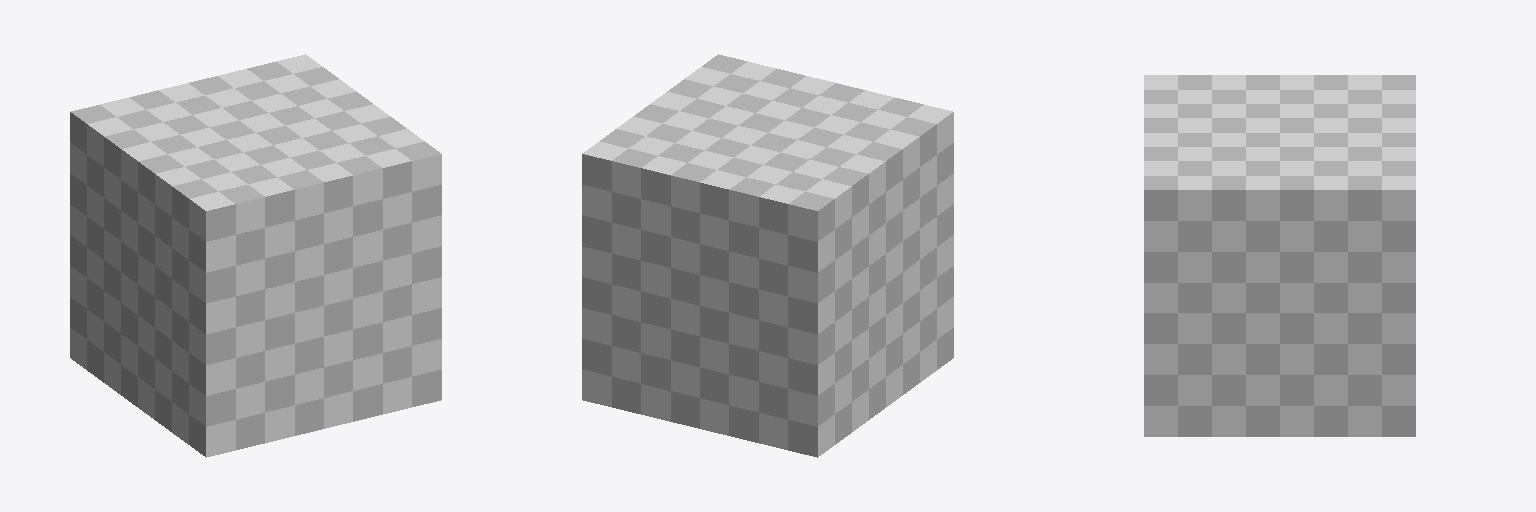
3 views of the same model, side by side, from view 1: azimuth 30°, elevation 25°; view 2: azimuth 150°, elevation 25°; view 3: azimuth 270°, elevation 25° (orthographic).
Visible parts, largest first — view 1: cube; view 2: cube; view 3: cube.
Part boxes in pixels (left/top/right/bottom): cube: left=70, top=54, right=441, bottom=457; cube: left=582, top=54, right=953, bottom=457; cube: left=1144, top=75, right=1415, bottom=436.
Bounding box in the file's own units: 1 × 1 × 1.
1 materials, 1 textured.